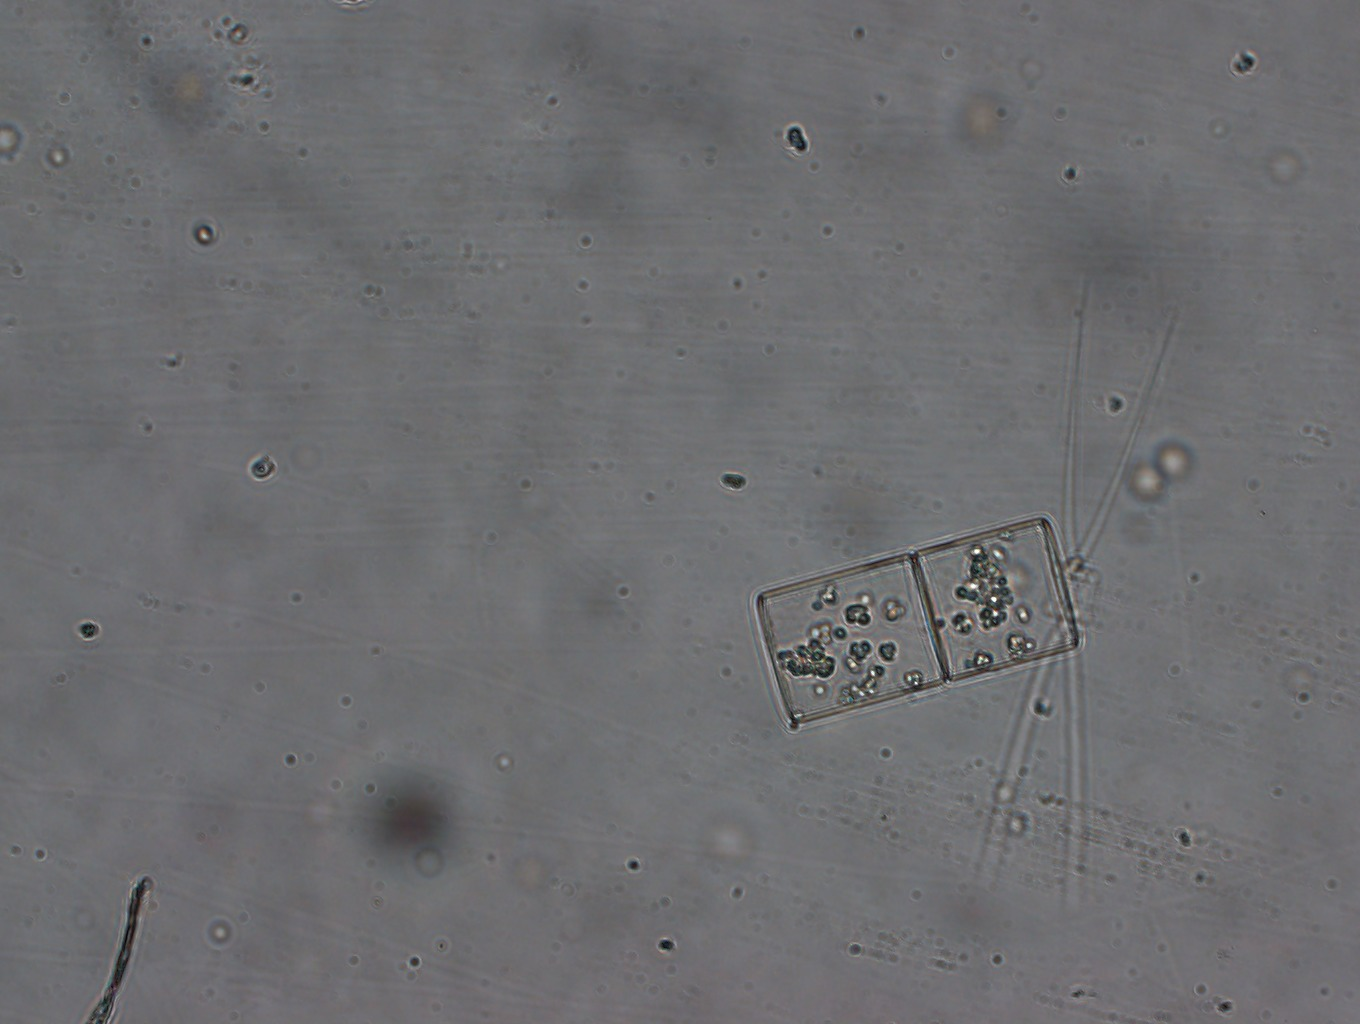chaetoceros: (974, 280, 1182, 899)
guinardia flaccida: (751, 514, 1082, 729)
